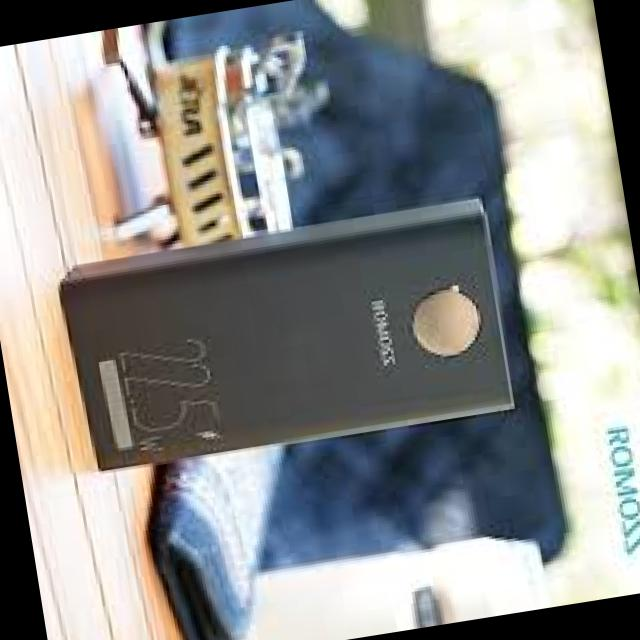power_bank: (52, 192, 518, 476)
